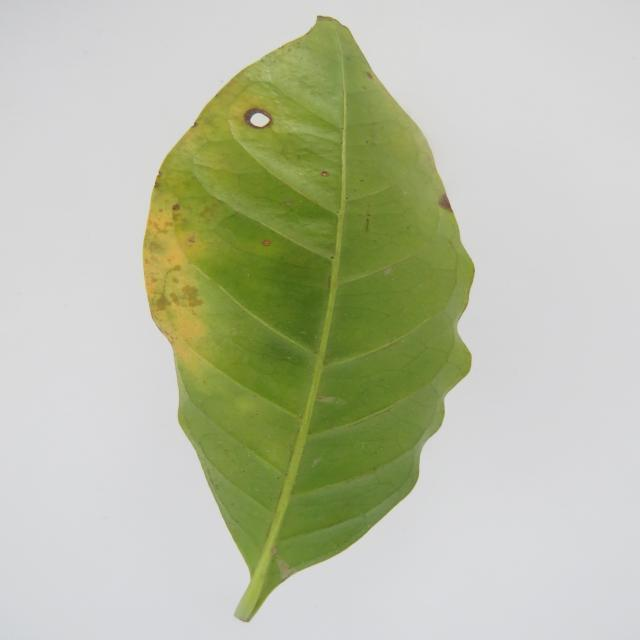DeficienciaNutricional-Calcio: (143, 18, 473, 621)
